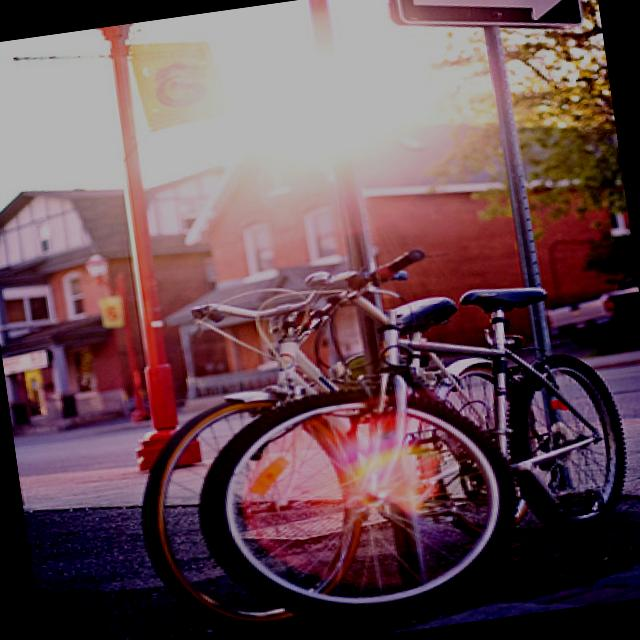Vehicle: (543, 275, 640, 353)
